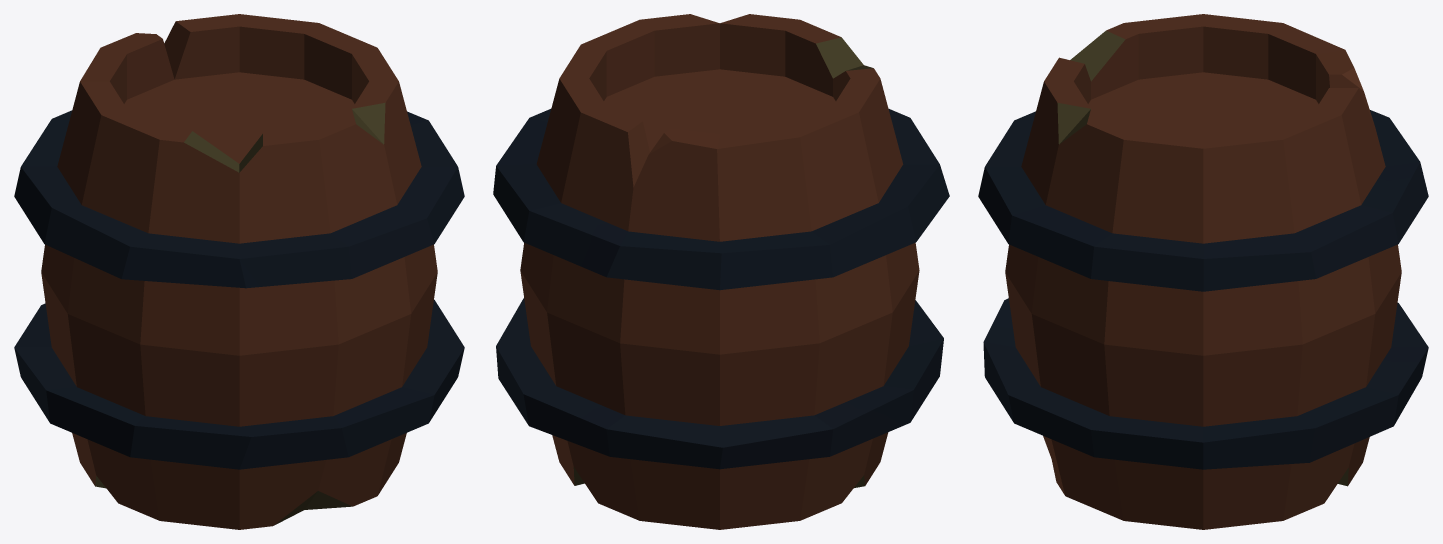
File: Barrel.fbx
3 renders of one model, left to right at view 1: azimuth 30°, elevation 25°; view 2: azimuth 150°, elevation 25°; view 3: azimuth 270°, elevation 25°, orthographic.
Parts seen in each view (by area): view 1: Barrel; view 2: Barrel; view 3: Barrel.
Part boxes in pixels (<box>): Barrel: <box>14,14,464,529</box>; Barrel: <box>493,14,949,529</box>; Barrel: <box>978,14,1428,529</box>.
Size of the model in its own units: 180 by 168 by 180.
